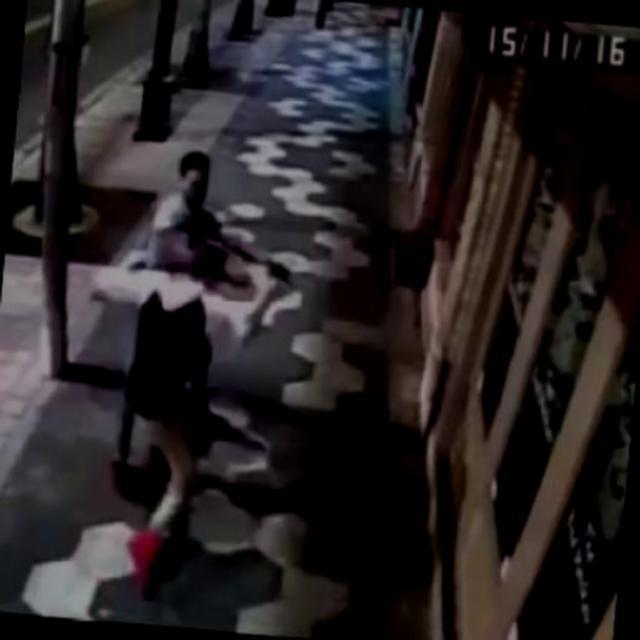fight: (68, 143, 284, 600)
